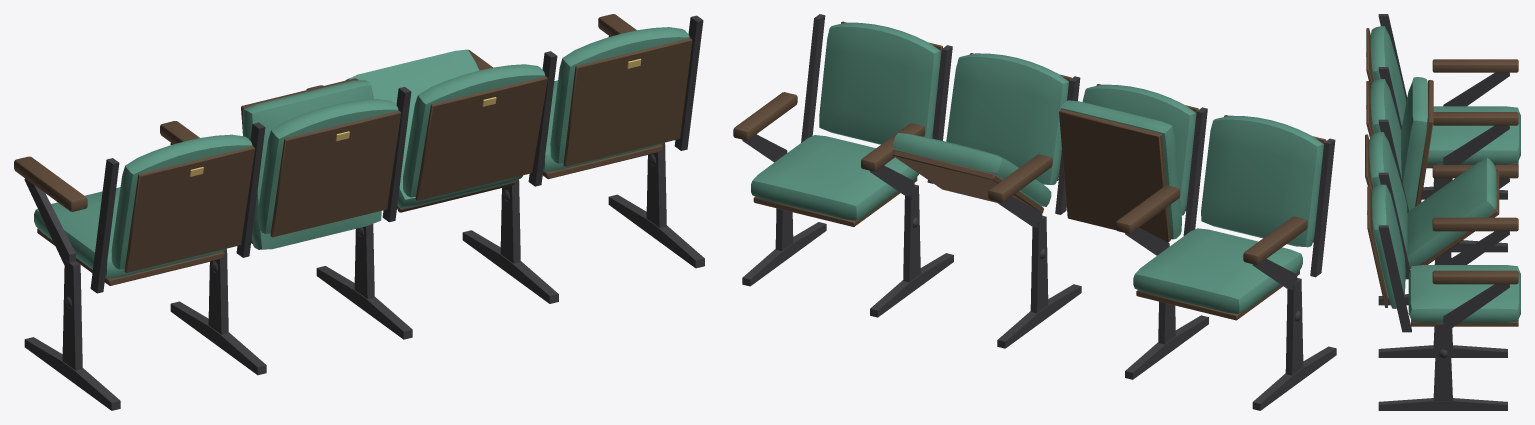
The model's file is tea_fila_b.fbx.
The picture shows the model from 3 angles, left to right: view 1: azimuth 30°, elevation 25°; view 2: azimuth 150°, elevation 25°; view 3: azimuth 270°, elevation 25°; orthographic projection. The views are drawn at different scales.
Parts seen in each view (by area): view 1: tea_fila_b_legno, tea_fila_b_velluto, tea_fila_b_ferro; view 2: tea_fila_b_velluto, tea_fila_b_ferro, tea_fila_b_legno; view 3: tea_fila_b_velluto, tea_fila_b_ferro, tea_fila_b_legno.
Boxes of the visible parts, x1,y1,x2,y2 form: tea_fila_b_legno: (14, 14, 692, 285); tea_fila_b_velluto: (34, 27, 689, 278); tea_fila_b_ferro: (24, 15, 704, 410); tea_fila_b_velluto: (751, 22, 1323, 313); tea_fila_b_ferro: (742, 14, 1336, 410); tea_fila_b_legno: (733, 21, 1326, 320); tea_fila_b_velluto: (1369, 26, 1520, 322); tea_fila_b_ferro: (1378, 14, 1509, 410); tea_fila_b_legno: (1365, 28, 1518, 326).
Bounding box in the file's own units: 2.39 × 0.9478 × 0.7226.
